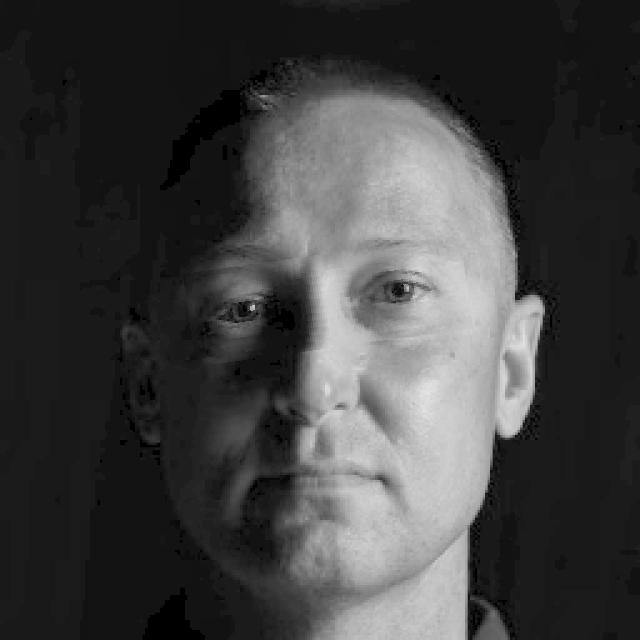no-glasses: (186, 245, 470, 357)
